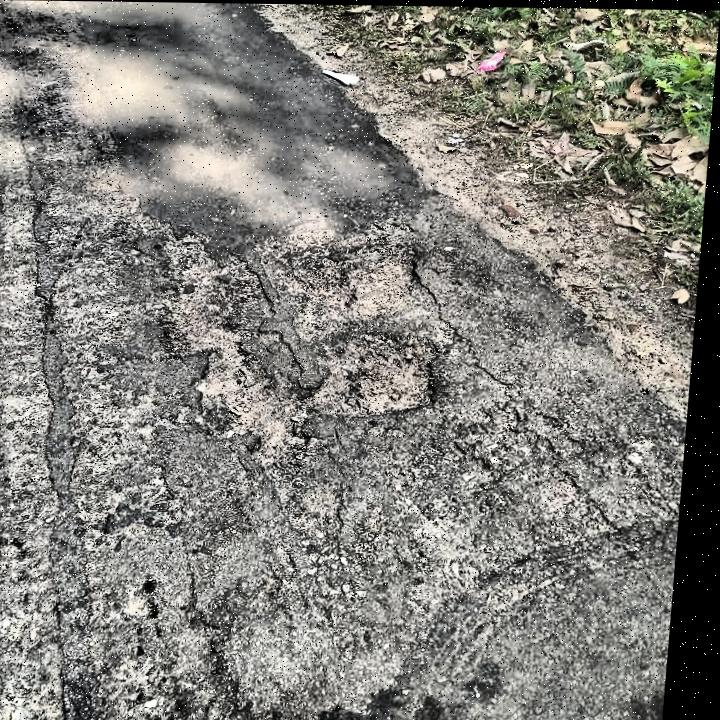pothole: (144, 225, 474, 471)
